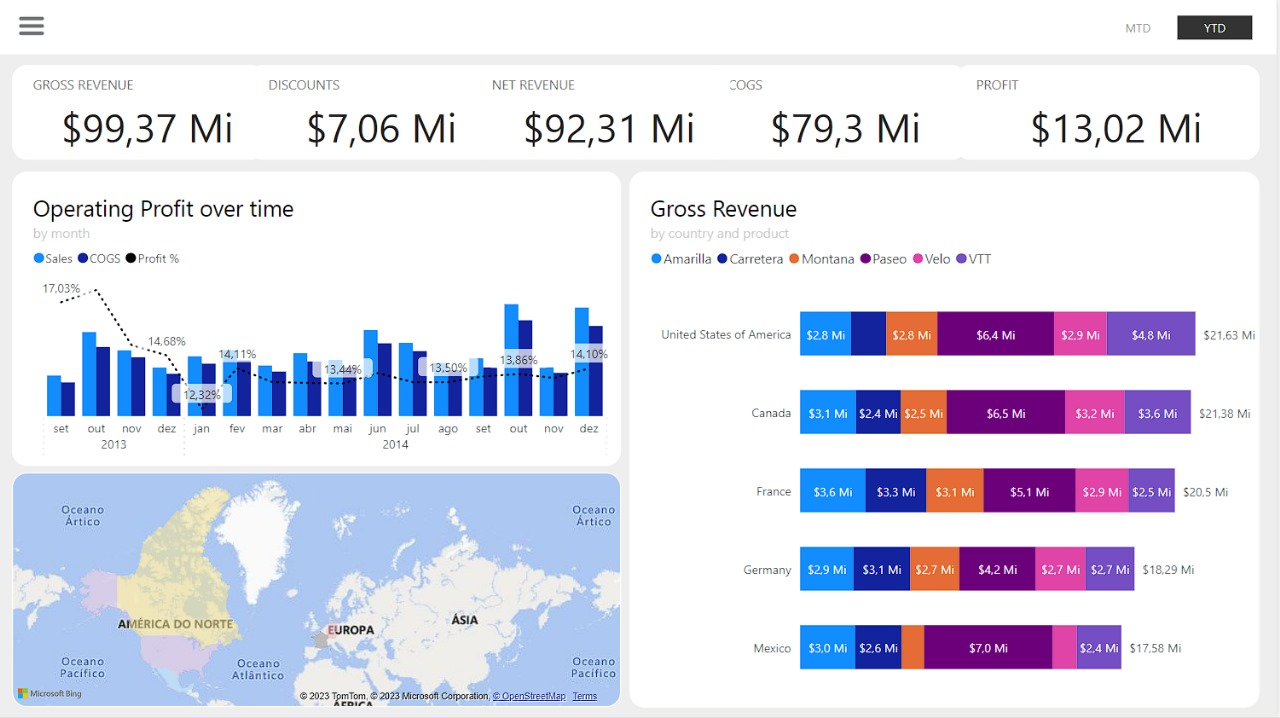

The page's visual inventory and layout, read from the dashboard file:
{"tool":"powerbi","page":{"name":"Overview","canvas":[1280,720],"ordinal":0},"visuals":[{"type":"shape","box":[0,0,1280,55.6],"z":0},{"type":"image","box":[14.4,8.9,36.7,36.7],"z":1000},{"type":"card","title":"DISCOUNTS","fields":{"Values":["Financials.Total Discount"]},"box":[249,67,251,95],"z":2000},{"type":"card","title":"COGS","fields":{"Values":["Financials.Total COGS"]},"box":[710,67,260,95],"z":3000},{"type":"card","title":"NET REVENUE","fields":{"Values":["Financials.Net Sales"]},"box":[473,67,260,95],"z":4000},{"type":"card","title":"PROFIT","fields":{"Values":["Financials.Total Profit"]},"box":[958,67,305,95],"z":5000},{"type":"card","title":"GROSS REVENUE","fields":{"Values":["Financials.Gross Revenue"]},"box":[14,67,254,95],"z":6000},{"type":"lineClusteredColumnComboChart","title":"Operating Profit over time","fields":{"Category":["Calendar.Year","Calendar.Month"],"Y":["Sum(Financials.Sales)","Sum(Financials.COGS)"],"Y2":["Financials.Profit %"]},"box":[14,173,610,295],"z":7000},{"type":"slicer","fields":{"Values":["Period Calculation.Period"]},"box":[1078,10,202,38],"z":8000},{"type":"barChart","title":"Gross Revenue","fields":{"Category":["Financials.Country"],"Series":["Financials.Product"],"Y":["Financials.Total Sales"]},"box":[632,173,631,537],"z":9000},{"type":"filledMap","fields":{"Category":["Financials.Country"]},"box":[14,475,610,235],"z":10000}]}

Visuals, with their boxes in screenshot pixels (x1, y1, x2, y2), scaled from the page's 1280x720 canvas onto the 1280x718 screenshot:
shape: Rect(0, 0, 1279, 55)
image: Rect(14, 9, 51, 45)
"DISCOUNTS" card: Rect(249, 67, 500, 162)
"COGS" card: Rect(710, 67, 970, 162)
"NET REVENUE" card: Rect(473, 67, 733, 162)
"PROFIT" card: Rect(958, 67, 1263, 162)
"GROSS REVENUE" card: Rect(14, 67, 268, 162)
"Operating Profit over time" lineClusteredColumnComboChart: Rect(14, 173, 624, 467)
slicer - Period Calculation.Period: Rect(1078, 10, 1279, 48)
"Gross Revenue" barChart: Rect(632, 173, 1263, 708)
filledMap - Financials.Country: Rect(14, 474, 624, 708)
